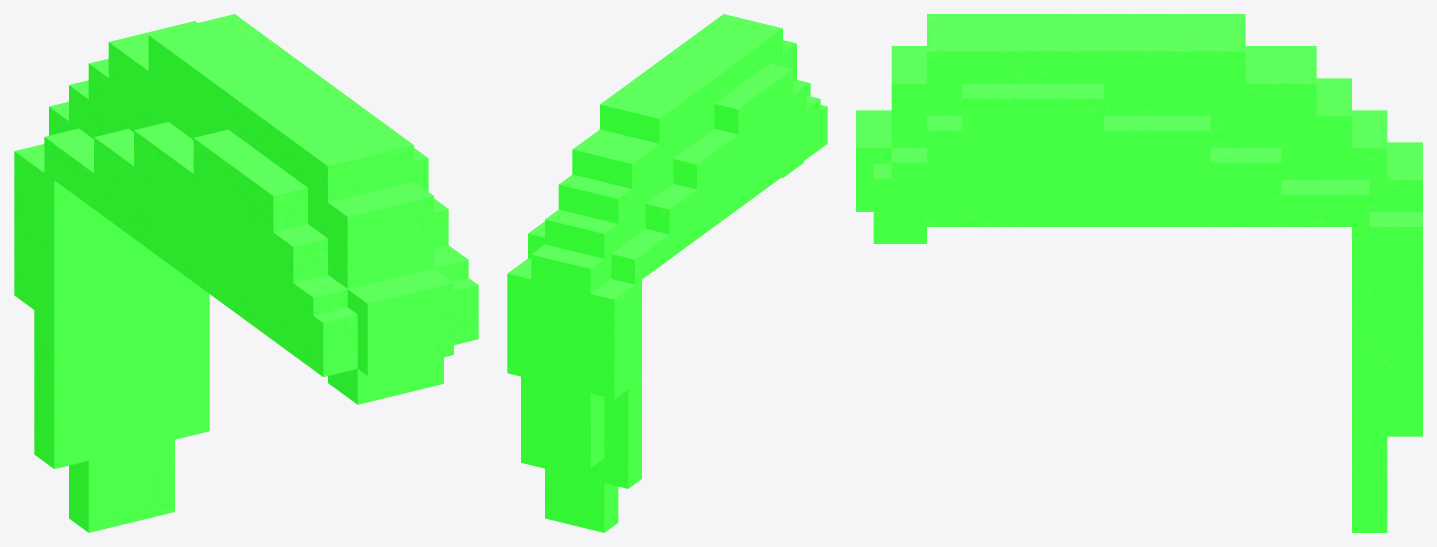
The model's file is mohawk_green.glb.
3 views of the same model, side by side, from view 1: azimuth 30°, elevation 25°; view 2: azimuth 150°, elevation 25°; view 3: azimuth 270°, elevation 25° (orthographic). The views are drawn at different scales.
Parts seen in each view (by area): view 1: mohawk.001; view 2: mohawk.001; view 3: mohawk.001.
Boxes of the visible parts, left/top/right/bottom form: mohawk.001: left=14, top=14, right=478, bottom=532; mohawk.001: left=507, top=14, right=827, bottom=532; mohawk.001: left=856, top=14, right=1422, bottom=532.
Size of the model in its own units: 0.9 by 3 by 3.2.
1 material, 1 textured.
